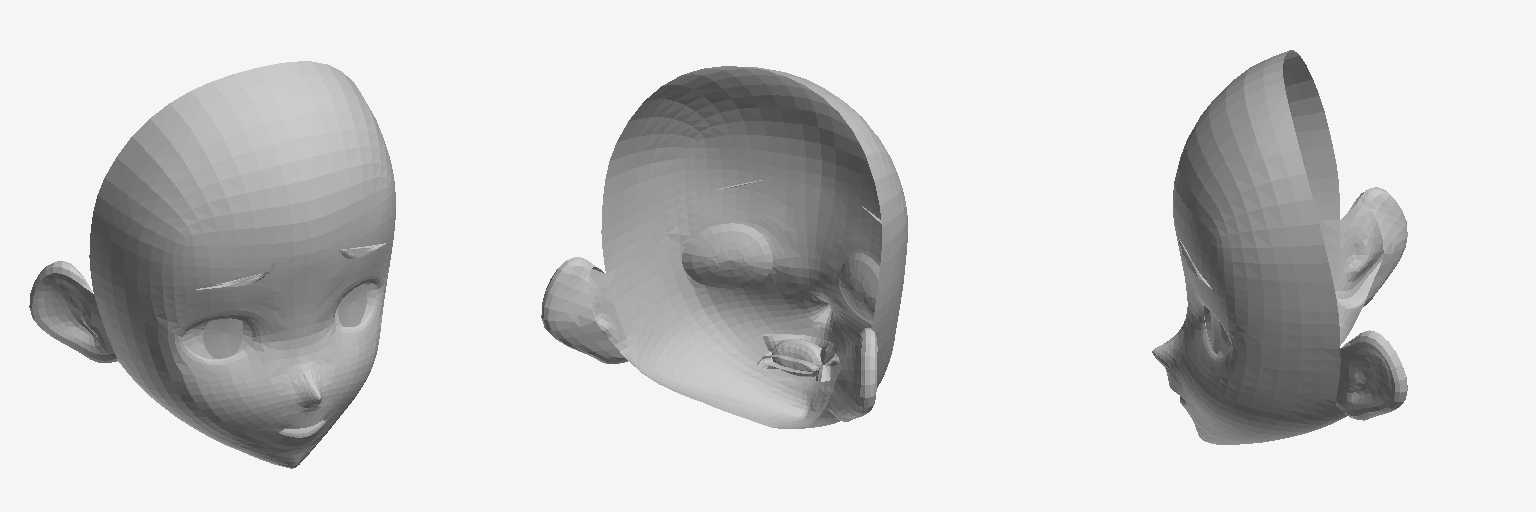
The model's file is browInnerUp.obj.
3 views of the same model, side by side, from view 1: azimuth 30°, elevation 25°; view 2: azimuth 150°, elevation 25°; view 3: azimuth 270°, elevation 25° (orthographic).
Parts seen in each view (by area): view 1: Face; view 2: Face; view 3: Face.
Boxes of the visible parts, box(x1,y1,x2,y2) form: Face: box(29, 61, 395, 468); Face: box(541, 66, 907, 428); Face: box(1152, 50, 1407, 444).
Size of the model in its own units: 0.2176 by 0.2333 by 0.1449.